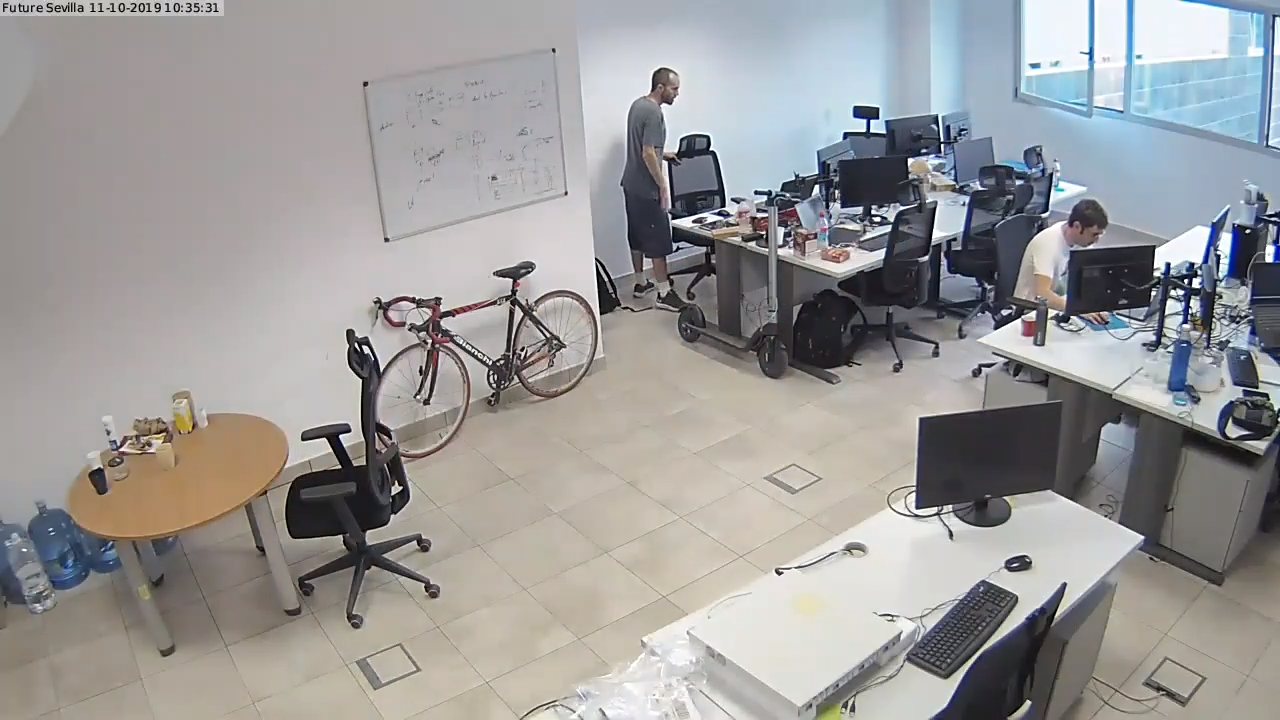head: (1063, 194, 1113, 255), (647, 59, 685, 113)
